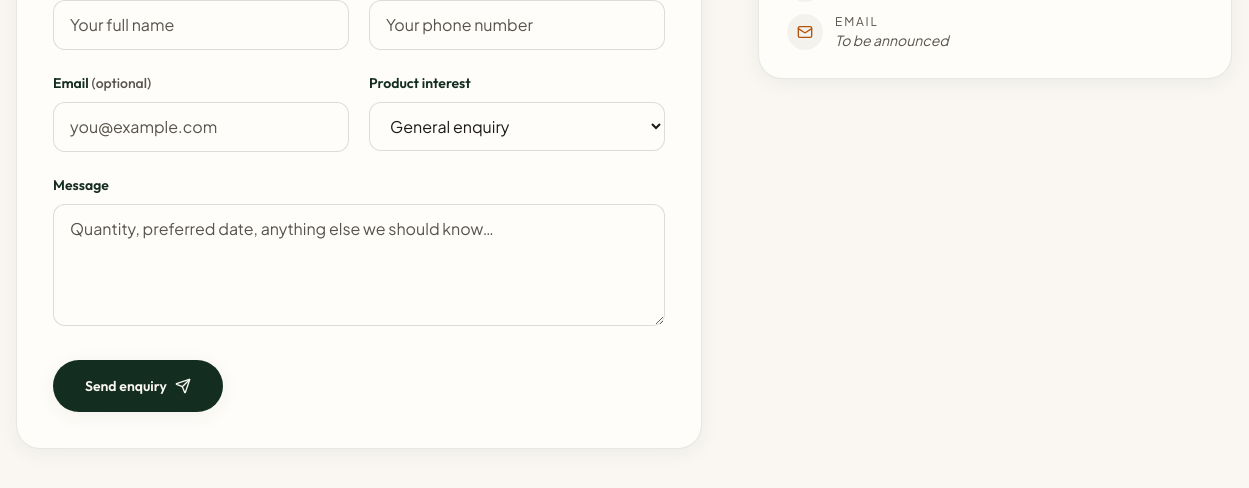
Contact form › shows a name error and does not submit an empty form
(page scrolled)
Click the button "Send enquiry" at [138, 386], box 53,360 -> 223,412
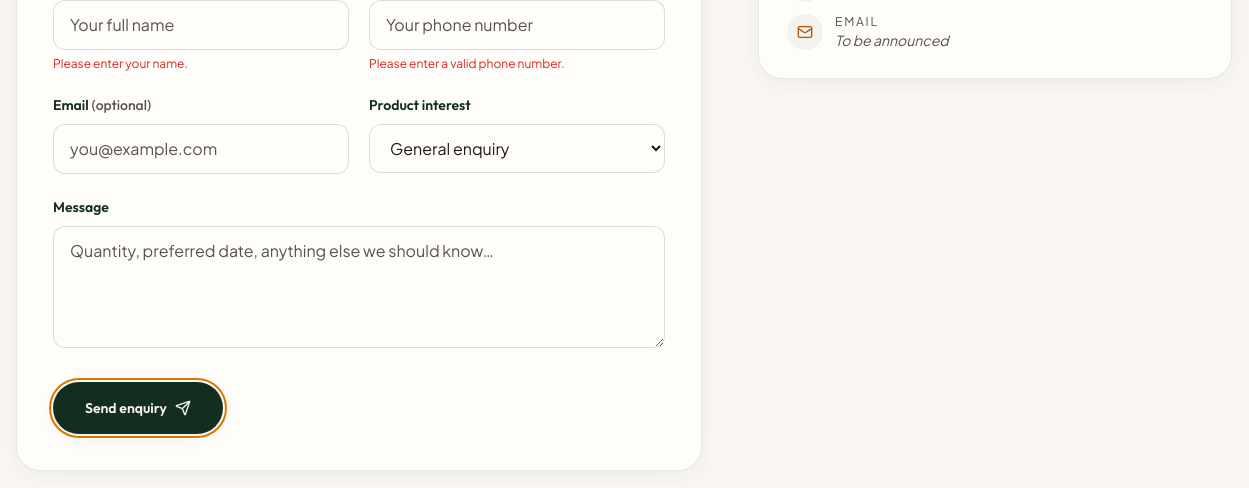
expect the text "Please enter your name." is shown: met, box 53,56 -> 188,71
